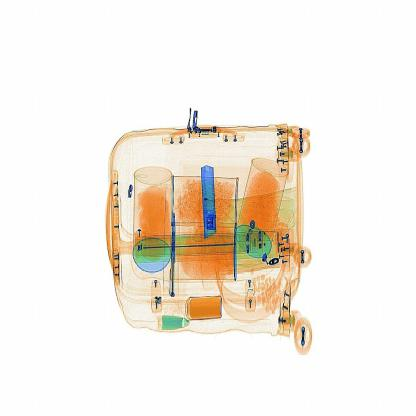pliers: (186, 163, 224, 246)
